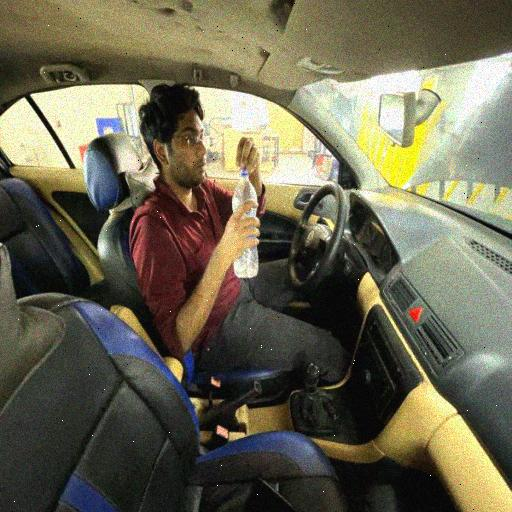Drinking: (130, 80, 275, 350)
